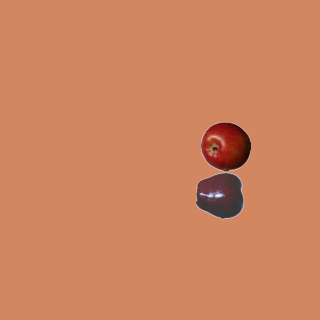Apple Braeburn: (200, 121, 250, 171)
Apple Red Delicious: (195, 170, 245, 220)
